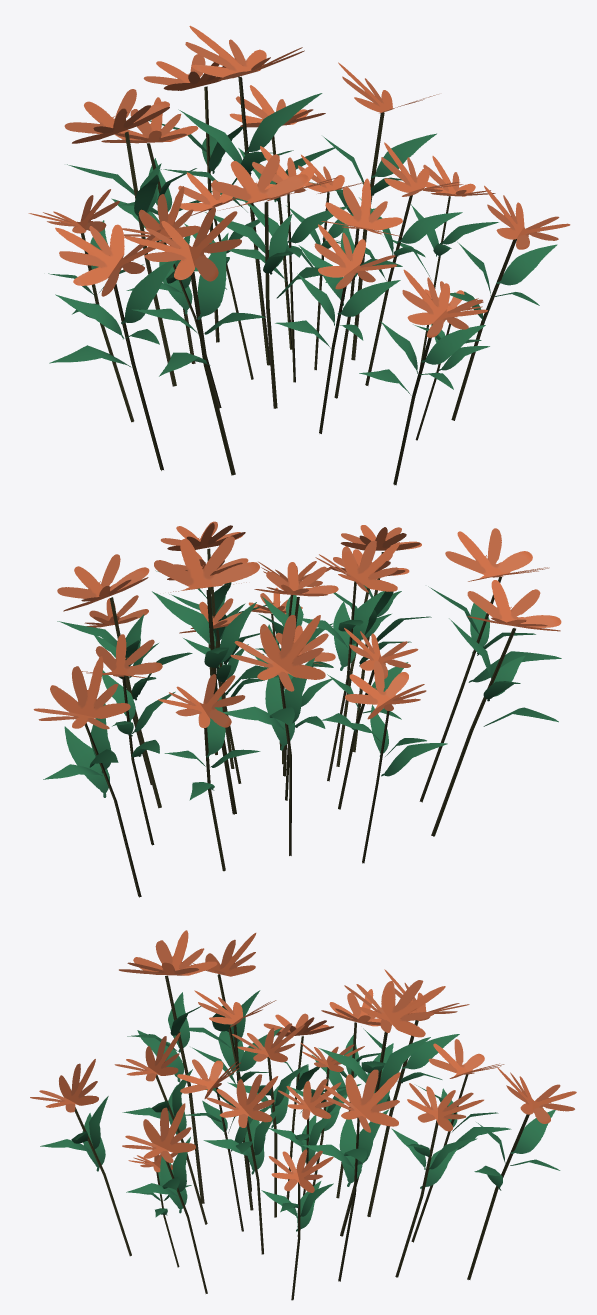
File: SM_Flower01.fbx
3 views of the same model, one above another, from view 1: azimuth 30°, elevation 25°; view 2: azimuth 150°, elevation 25°; view 3: azimuth 270°, elevation 25° (orthographic). The views are drawn at different scales.
Visible parts, largest first — view 1: FlowerBunch01; view 2: FlowerBunch01; view 3: FlowerBunch01.
Part boxes in pixels (box(x1,y1,x2,y2)): FlowerBunch01: box(28, 25, 570, 485); FlowerBunch01: box(33, 521, 561, 897); FlowerBunch01: box(30, 930, 576, 1300).
Size of the model in its own units: 64.14 by 42.93 by 75.54.
